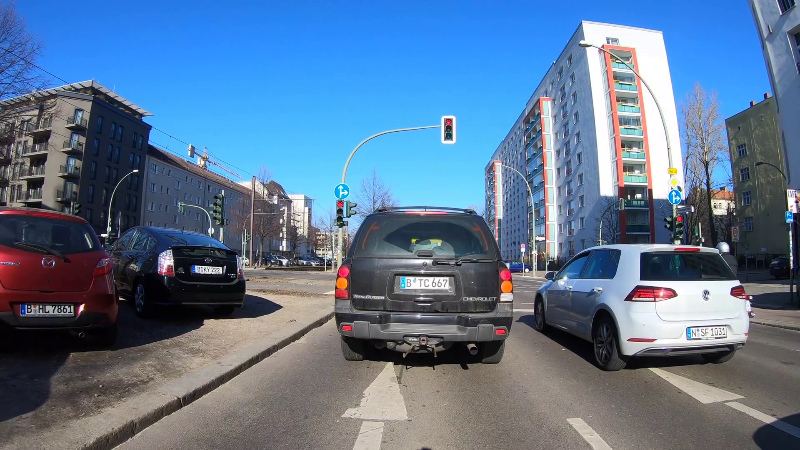Plate: (397, 275, 451, 290), (20, 302, 75, 316), (685, 326, 728, 339), (191, 264, 224, 275)
